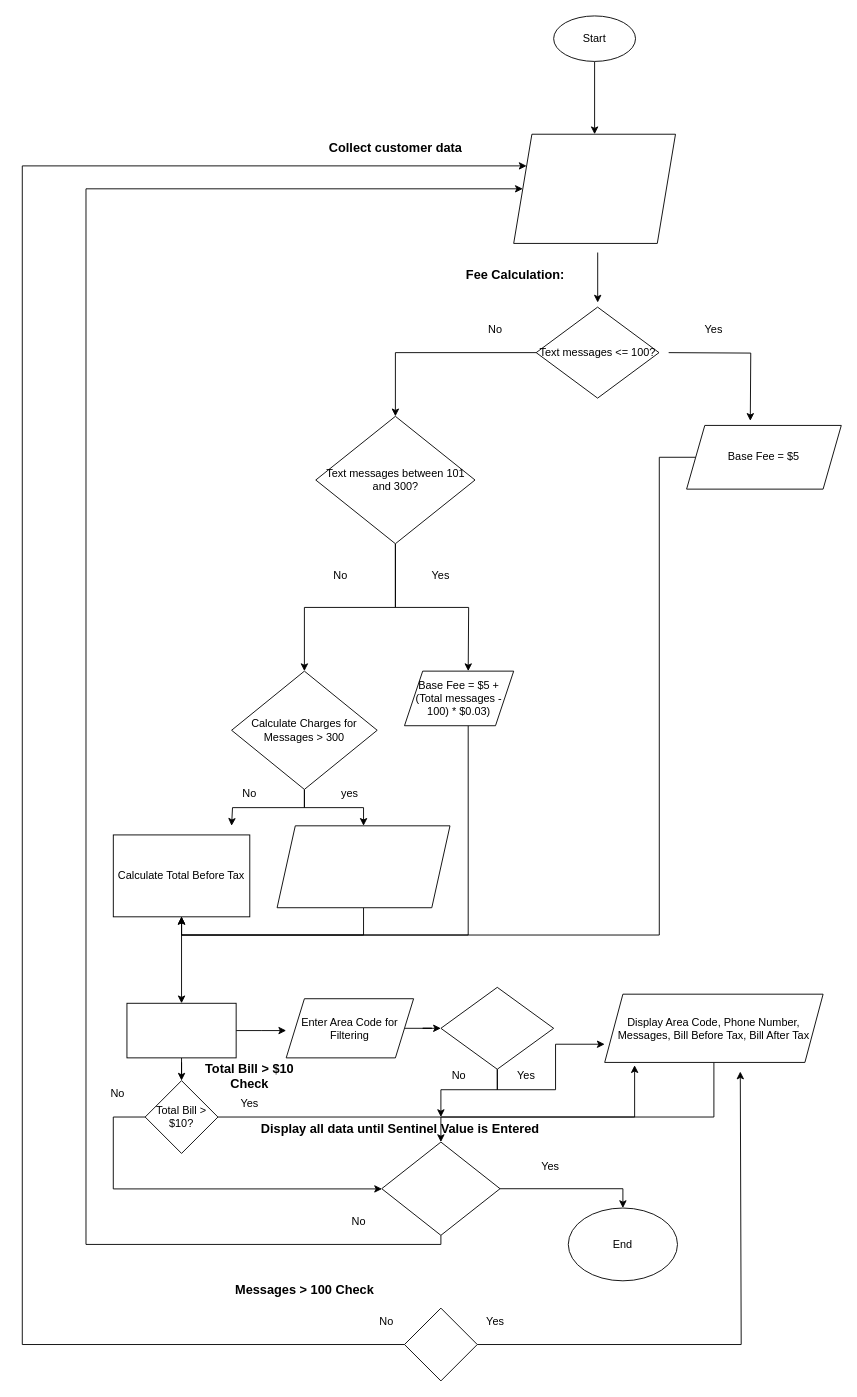
The diagram is 857 pixels wide and 1397 high, and some of its shapes have lost their labels. The shapes that lost their labels are listed below. From the top down, each one's centre as x and y in pixels, then its label:
the point at 594,188: Input Area Code (3 digits), Phone Number (7 digits), Total Text Messages Sent
the point at 363,866: Base Fee = $5 + (300 - 100) * $0.03 + (Total messages - 300) * $0.02)
the point at 181,1030: Apply Tax (Total with tax = Total * 1.14)
the point at 497,1027: Does Customer’s Area Code Match?
the point at 440,1188: Sentinel Value Entered
the point at 440,1344: Text messages > 100
